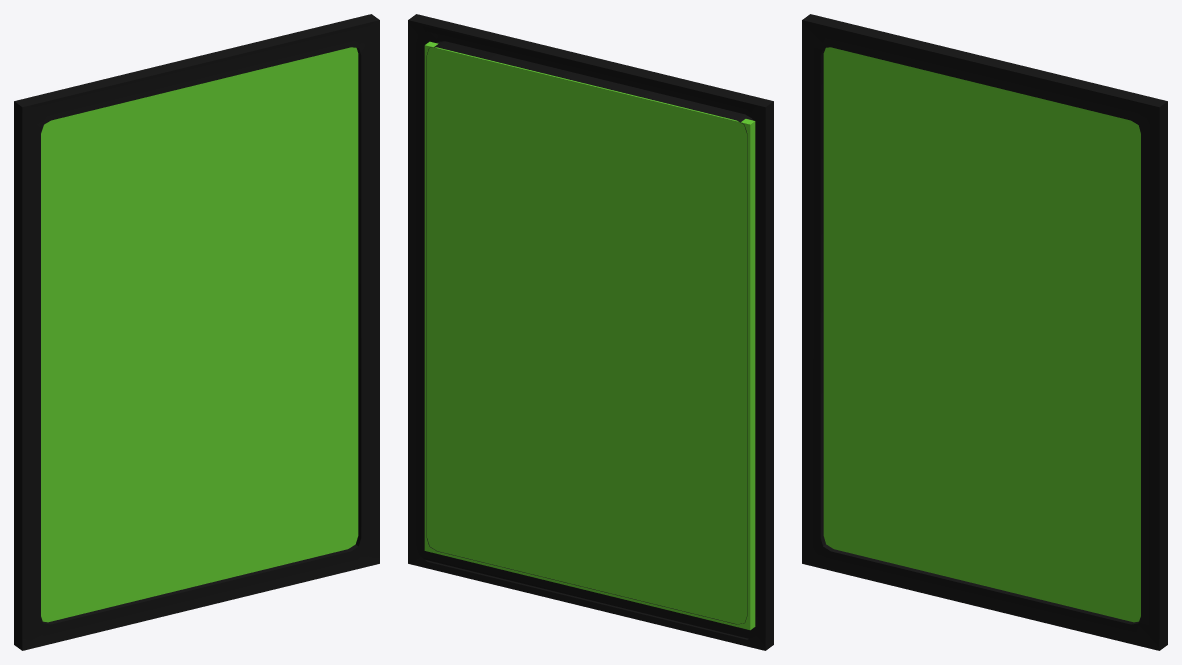
Rendered from WindowGlassSmall.fbx.
3 views of the same model, side by side, from view 1: azimuth 30°, elevation 25°; view 2: azimuth 150°, elevation 25°; view 3: azimuth 330°, elevation 25° (orthographic).
Parts seen in each view (by area): view 1: WindowGlassSmall, Window013; view 2: WindowGlassSmall, Window013; view 3: WindowGlassSmall, Window013.
Part boxes in pixels (x1,y1,x2,y2): WindowGlassSmall: (41,47,358,622); Window013: (14,14,379,650); WindowGlassSmall: (424,41,755,630); Window013: (408,14,773,650); WindowGlassSmall: (823,47,1140,622); Window013: (802,14,1167,650).
Bounding box in the file's own units: 275 × 11.11 × 400.
